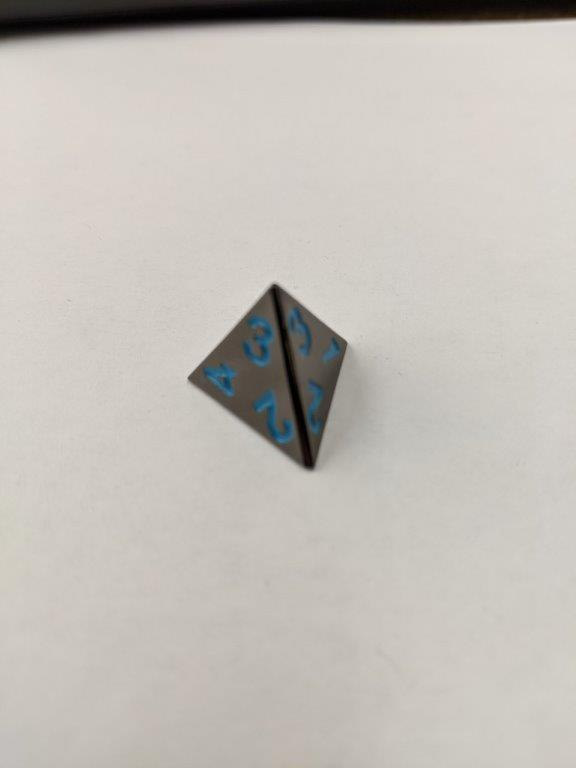d4-3: (185, 280, 349, 472)
